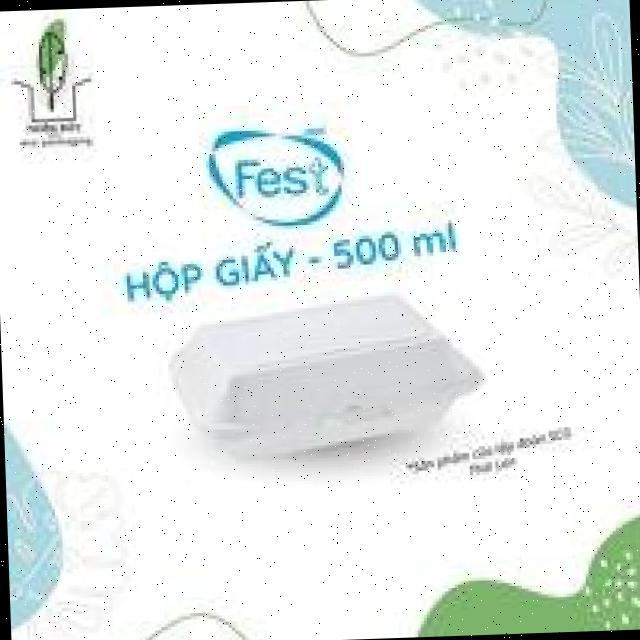styrofoam: (162, 286, 484, 460)
